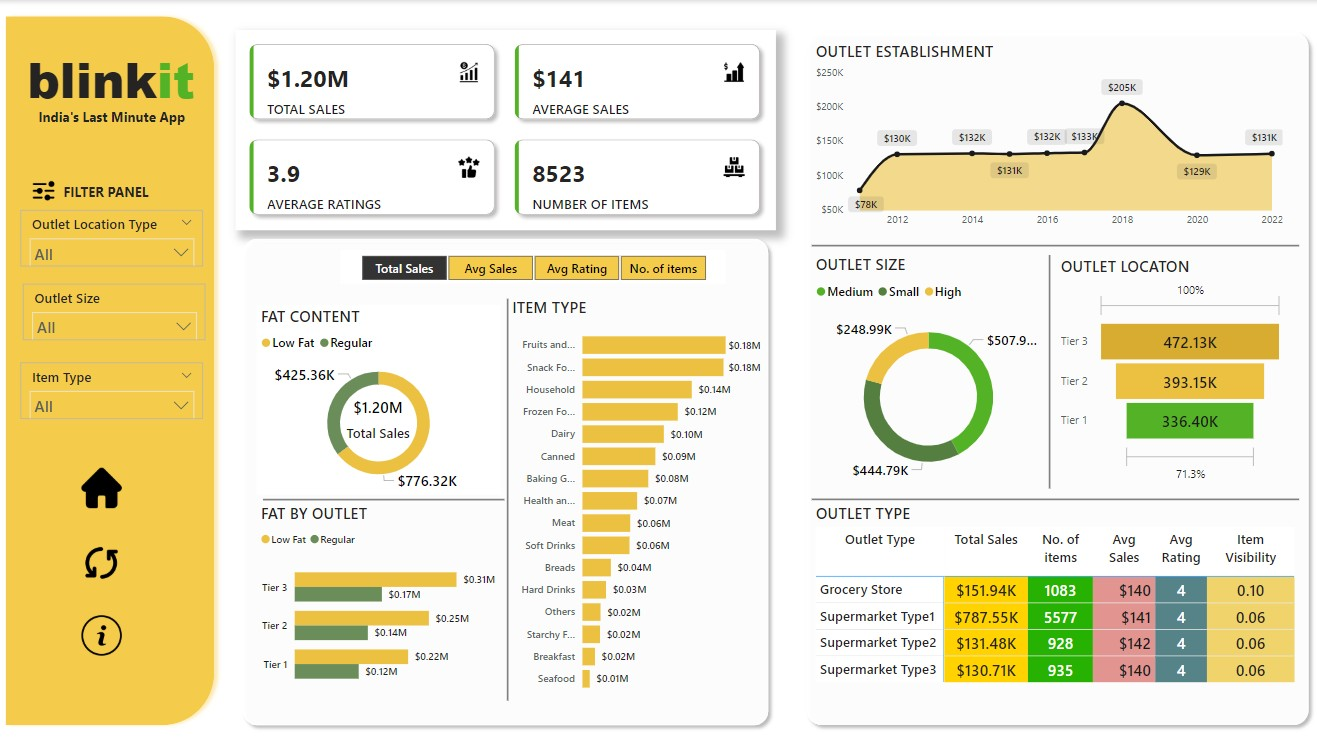

Layout of this report page (visuals, bound fields, positions):
{"tool":"powerbi","page":{"name":"Blinkit Dashboard","canvas":[1280,720],"ordinal":2},"visuals":[{"type":"shape","box":[0,0,227.4,720.2],"z":0},{"type":"textbox","box":[17.8,30.2,238.8,79.6],"z":1000},{"type":"textbox","box":[256.6,378.7,214.1,341.7],"z":2000},{"type":"textbox","box":[32.9,100.2,194.9,35.7],"z":3000},{"type":"image","box":[0,135.8,67.2,37],"z":3001},{"type":"textbox","box":[50.8,135.8,419.9,52.1],"z":3002},{"type":"slicer","fields":{"Values":["BlinkIT Grocery Data.Outlet Location Type"]},"box":[9.6,172.9,201.7,71.4],"z":3003},{"type":"slicer","fields":{"Values":["BlinkIT Grocery Data.Outlet Size"]},"box":[9.6,244.3,201.7,68.6],"z":3004},{"type":"slicer","fields":{"Values":["BlinkIT Grocery Data.Outlet Type"]},"box":[9.6,312.9,201.7,65.9],"z":3005},{"type":"image","box":[49.4,411.7,122.1,57.6],"z":3006},{"type":"image","box":[74.1,440.5,72.7,160.5],"z":3007},{"type":"image","box":[74.1,532.4,72.7,138.6],"z":3008},{"type":"cardVisual","fields":{"Data":["BlinkIT Grocery Data.Total Sales","BlinkIT Grocery Data.Avg. Sales","BlinkIT Grocery Data.No. of items","BlinkIT Grocery Data.Avg. Rating"]},"box":[227.8,30.2,557.1,259.3],"z":3009},{"type":"slicer","fields":{"Values":["Metrics.Metrics"]},"box":[349.9,274.4,404.8,57.6],"z":3011},{"type":"donutChart","title":"FAT CONTENT","fields":{"Y":["BlinkIT Grocery Data.Total Sales"],"Category":["BlinkIT Grocery Data.Item Fat Content"]},"box":[250.7,332.6,283.7,199.3],"z":3012},{"type":"clusteredBarChart","title":"FAGT BY OUTLET","fields":{"Category":["BlinkIT Grocery Data.Outlet Location Type"],"Series":["BlinkIT Grocery Data.Item Fat Content"],"Y":["BlinkIT Grocery Data.Total Sales"]},"box":[243.3,520.9,291,199.3],"z":3013},{"type":"barChart","title":"ITEM TYPE","fields":{"Category":["BlinkIT Grocery Data.Item Type"],"Y":["BlinkIT Grocery Data.Total Sales"]},"box":[524.6,332.6,242.1,387.6],"z":3014},{"type":"lineChart","title":"OUTLET ESTABLISHMENT","fields":{"Y":["BlinkIT Grocery Data.Total Sales"],"Category":["BlinkIT Grocery Data.Outlet Establishment Year"]},"box":[785.1,41.6,484.2,225],"z":3015},{"type":"donutChart","title":"OUTLET TYPE","fields":{"Category":["BlinkIT Grocery Data.Outlet Size"],"Y":["BlinkIT Grocery Data.Total Sales"]},"box":[785.1,303.3,266.6,228.7],"z":3016},{"type":"funnel","title":"OUTLET LOCATION","fields":{"Category":["BlinkIT Grocery Data.Outlet Location Type"],"Y":["Sum(BlinkIT Grocery Data.Sales)"]},"box":[1051.6,332.6,217.7,216.4],"z":3017},{"type":"tableEx","fields":{"Values":["BlinkIT Grocery Data.Outlet Type","BlinkIT Grocery Data.Total Sales","BlinkIT Grocery Data.No. of items","BlinkIT Grocery Data.Avg. Sales","Sum(BlinkIT Grocery Data.Item Visibility)"]},"box":[785.1,549.1,495.2,171.2],"z":3018}]}

Visuals, with their boxes in screenshot pixels (x1, y1, x2, y2), scaled from the page's 1280x720 canvas onto the 1317x737 screenshot:
shape: 0, 0, 234, 736
textbox: 18, 31, 264, 112
textbox: 264, 388, 484, 736
textbox: 34, 103, 234, 139
image: 0, 139, 69, 177
textbox: 52, 139, 484, 192
slicer - BlinkIT Grocery Data.Outlet Location Type: 10, 177, 217, 250
slicer - BlinkIT Grocery Data.Outlet Size: 10, 250, 217, 320
slicer - BlinkIT Grocery Data.Outlet Type: 10, 320, 217, 388
image: 51, 421, 176, 480
image: 76, 451, 151, 615
image: 76, 545, 151, 687
cardVisual - BlinkIT Grocery Data.Total Sales x BlinkIT Grocery Data.Avg. Sales: 234, 31, 808, 296
slicer - Metrics.Metrics: 360, 281, 777, 340
"FAT CONTENT" donutChart: 258, 340, 550, 544
"FAGT BY OUTLET" clusteredBarChart: 250, 533, 550, 736
"ITEM TYPE" barChart: 540, 340, 789, 736
"OUTLET ESTABLISHMENT" lineChart: 808, 43, 1306, 273
"OUTLET TYPE" donutChart: 808, 310, 1082, 545
"OUTLET LOCATION" funnel: 1082, 340, 1306, 562
tableEx - BlinkIT Grocery Data.Outlet Type x BlinkIT Grocery Data.Total Sales: 808, 562, 1316, 736
